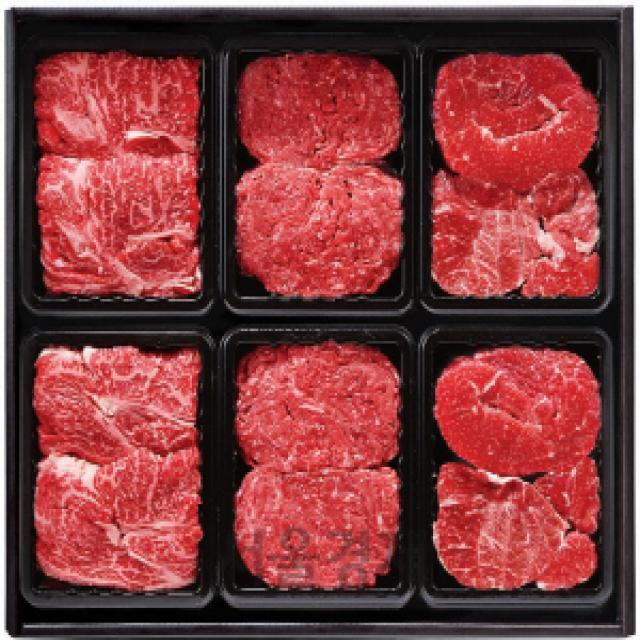beef: (36, 345, 203, 582), (42, 64, 198, 288), (435, 60, 586, 289), (450, 350, 599, 576), (225, 328, 394, 520), (248, 62, 390, 282)
